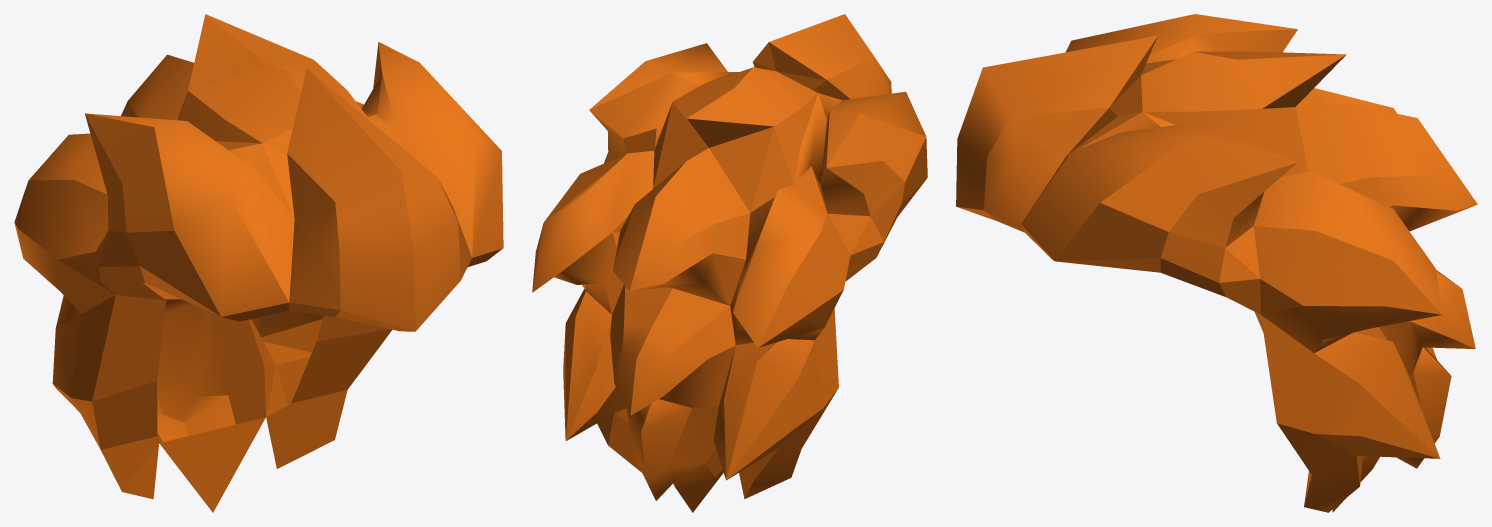
File: Hair_Orange_19.fbx
3 renders of one model, left to right at view 1: azimuth 30°, elevation 25°; view 2: azimuth 150°, elevation 25°; view 3: azimuth 270°, elevation 25°, orthographic. The views are drawn at different scales.
Parts seen in each view (by area): view 1: Hair_Orange_19; view 2: Hair_Orange_19; view 3: Hair_Orange_19.
Boxes of the visible parts, bbox=[...] form: Hair_Orange_19: bbox=[14, 14, 503, 512]; Hair_Orange_19: bbox=[532, 14, 927, 512]; Hair_Orange_19: bbox=[956, 14, 1477, 512].
Size of the model in its own units: 47.08 by 65.84 by 65.25.
